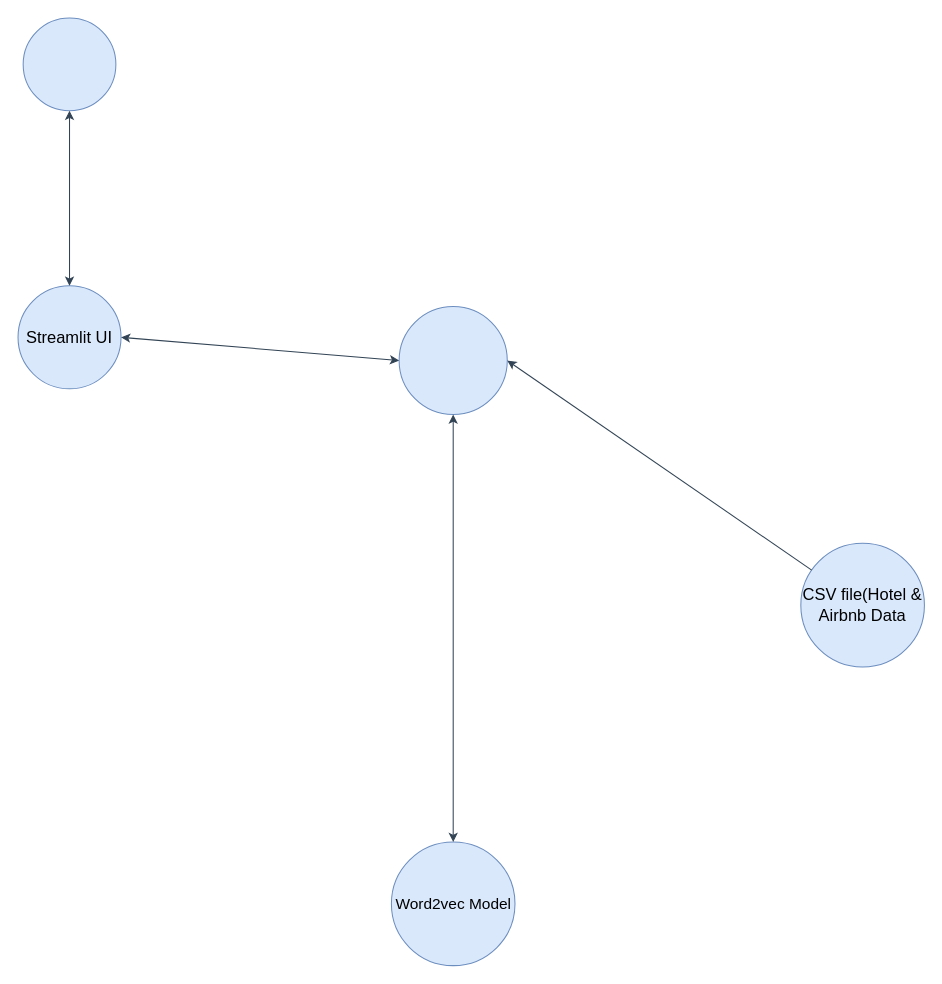
The diagram is 942 pixels wide and 984 high, and some of its shapes have lost their labels. Each missing label, with the centre of its shape:
"Recommender Engine" goes at point (452, 360).
"User" goes at point (69, 64).
